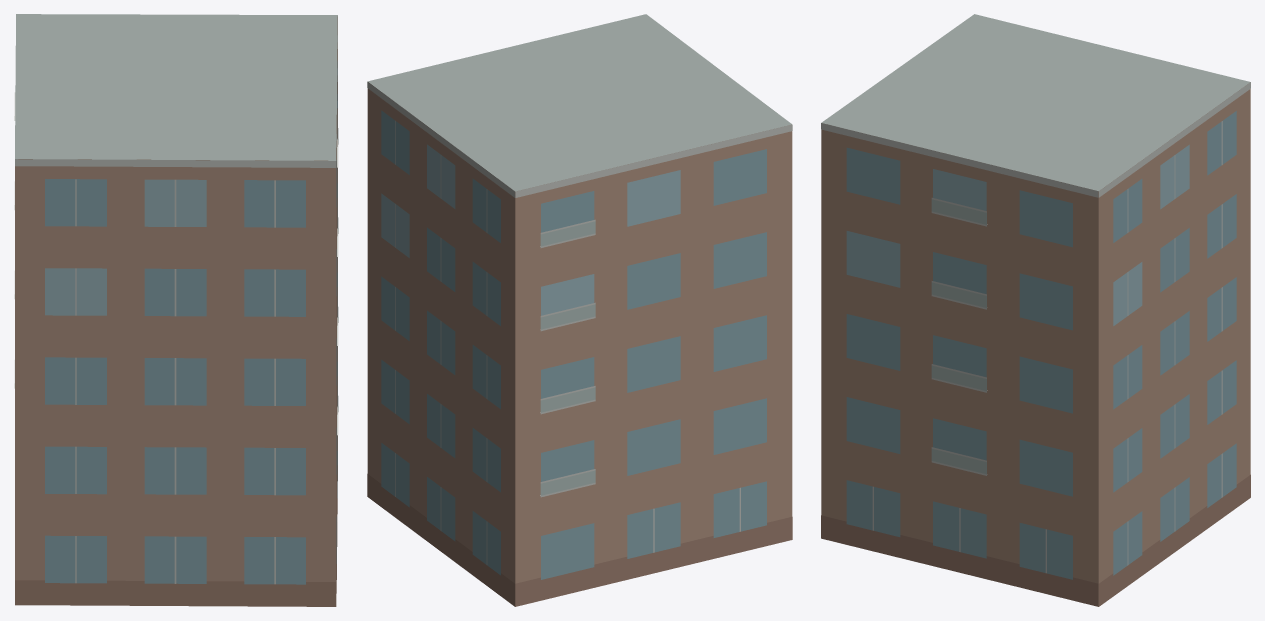
The model's file is survey-upis-32701306.glb.
3 renders of one model, left to right at view 1: azimuth 30°, elevation 25°; view 2: azimuth 150°, elevation 25°; view 3: azimuth 270°, elevation 25°, orthographic. The views are drawn at different scales.
Parts seen in each view (by area): view 1: survey-upis-32701306.tmp; view 2: survey-upis-32701306.tmp; view 3: survey-upis-32701306.tmp.
Boxes of the visible parts, <box> form: survey-upis-32701306.tmp: <box>14,14,338,606</box>; survey-upis-32701306.tmp: <box>367,14,792,606</box>; survey-upis-32701306.tmp: <box>821,14,1250,606</box>.
Size of the model in its own units: 13.95 by 15.25 by 14.29.
